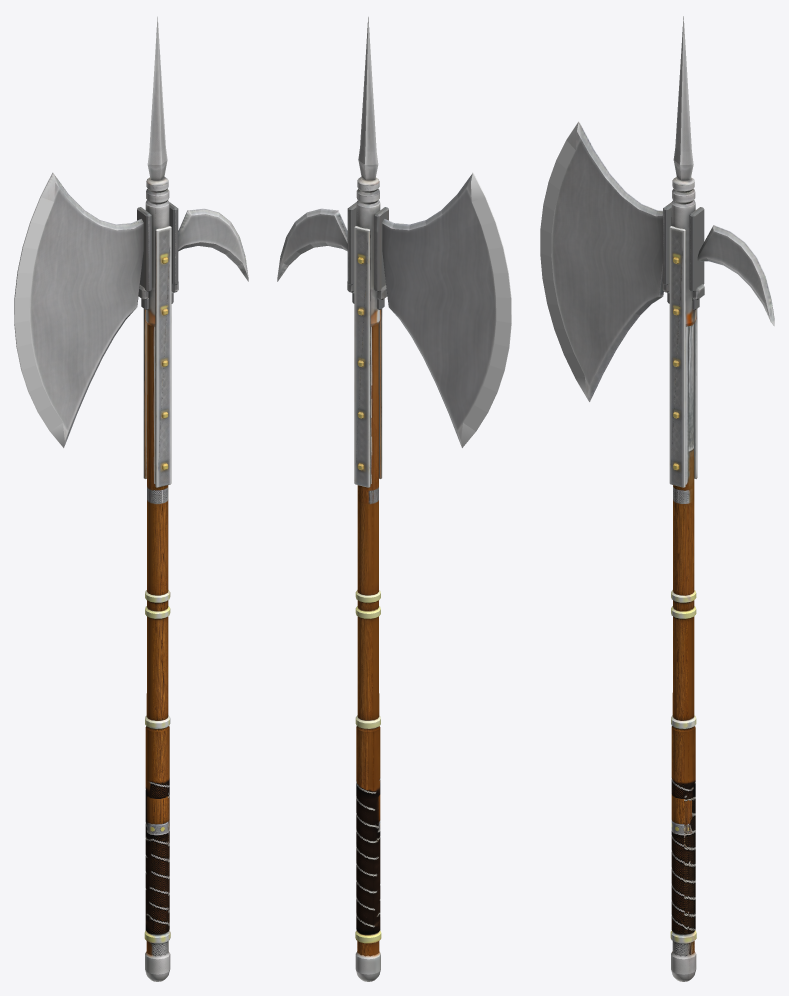
File: w_halberd.glb
3 renders of one model, left to right at view 1: azimuth 30°, elevation 25°; view 2: azimuth 150°, elevation 25°; view 3: azimuth 330°, elevation 25°, orthographic.
Visible parts, largest first — view 1: w_halberd; view 2: w_halberd; view 3: w_halberd.
Part boxes in pixels (x1,y1,x2,y2): w_halberd: (14, 16, 248, 981); w_halberd: (277, 16, 511, 981); w_halberd: (540, 16, 774, 981).
Bounding box in the file's own units: 30.38 × 120 × 3.78.
1 material, 1 textured.
